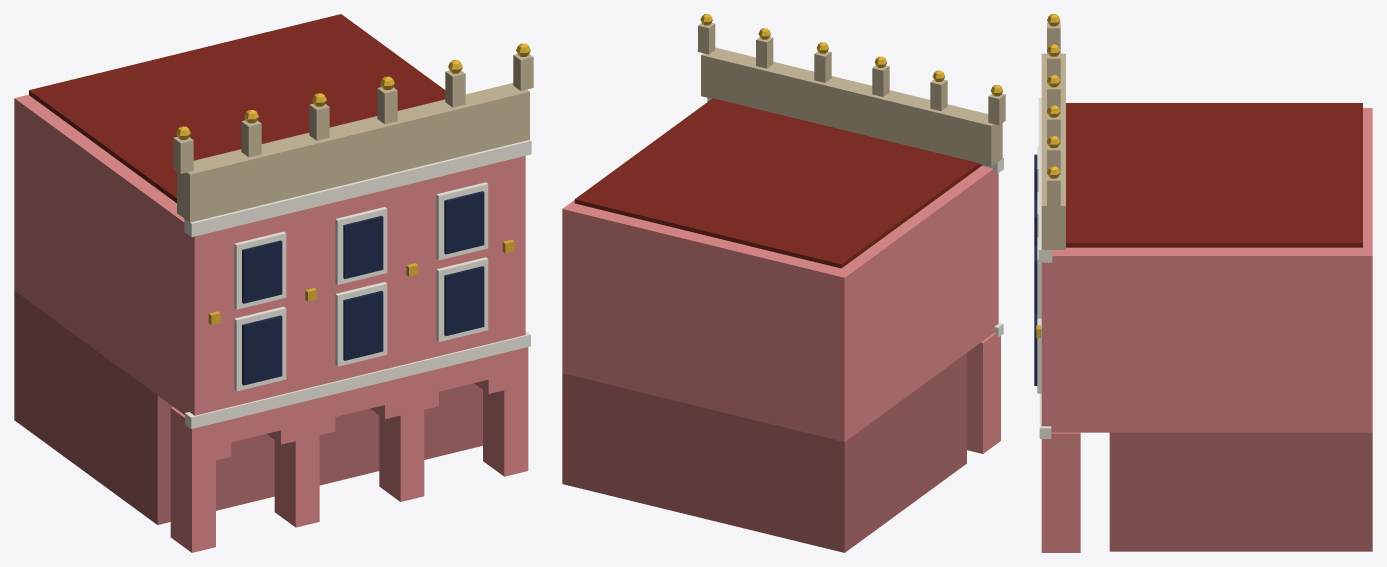
Rendered from kamienica_0.glb.
3 renders of one model, left to right at view 1: azimuth 30°, elevation 25°; view 2: azimuth 150°, elevation 25°; view 3: azimuth 270°, elevation 25°, orthographic. The views are drawn at different scales.
Visible parts, largest first — view 1: kamienica_0; view 2: kamienica_0; view 3: kamienica_0.
Boxes of the visible parts, x1,y1,x2,y2 form: kamienica_0: (14, 14, 533, 552); kamienica_0: (562, 14, 1005, 552); kamienica_0: (1034, 14, 1372, 552).
Bounding box in the file's own units: 3.84 × 4.39 × 3.48.
